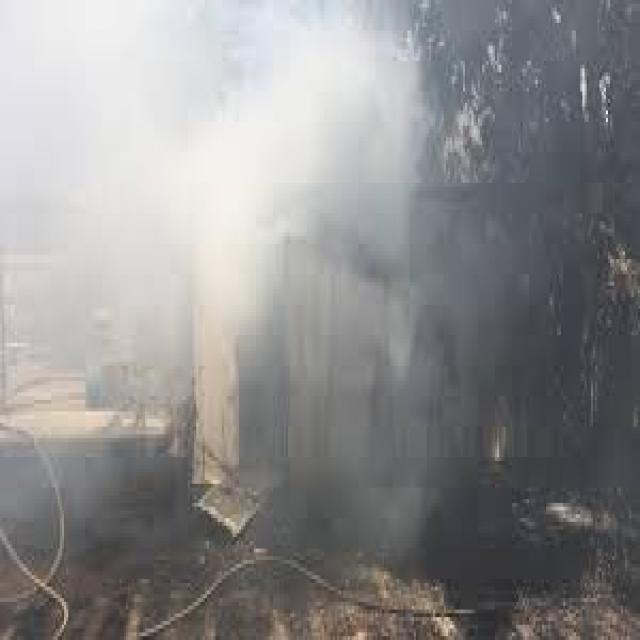Smoke: (0, 0, 625, 549)
